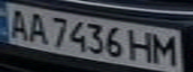3: (84, 20, 106, 56)
4: (66, 19, 87, 53)
6: (103, 24, 127, 60)
7: (45, 15, 72, 48)
A: (3, 6, 30, 40), (24, 10, 51, 44)
H: (127, 28, 157, 64)
M: (148, 32, 184, 65)
